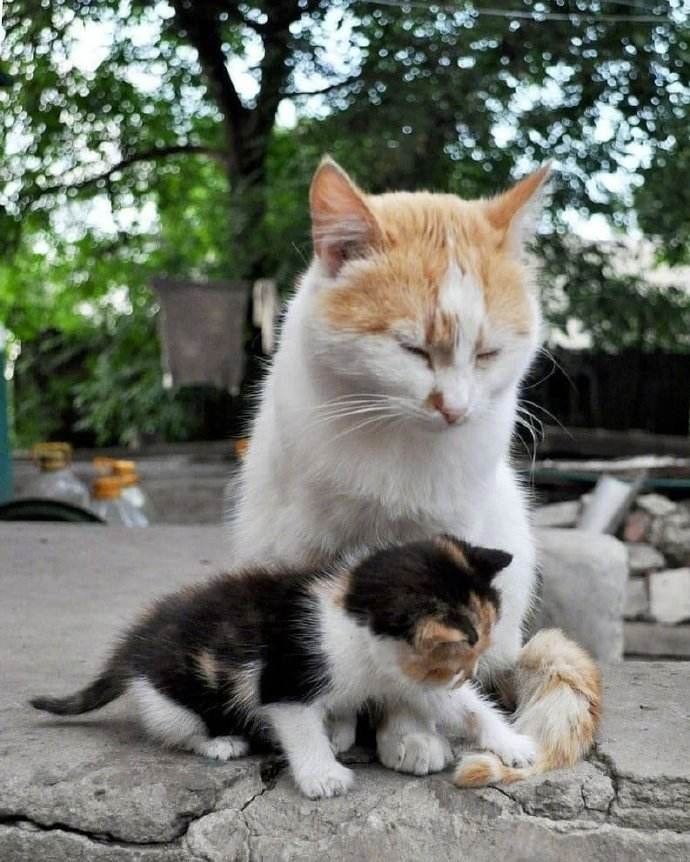cat: (230, 153, 602, 788), (24, 534, 534, 800)
